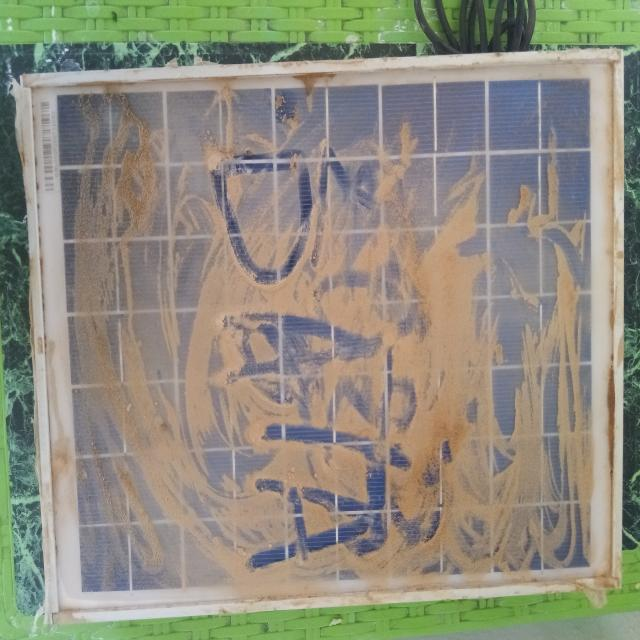faulty: (25, 53, 626, 622)
